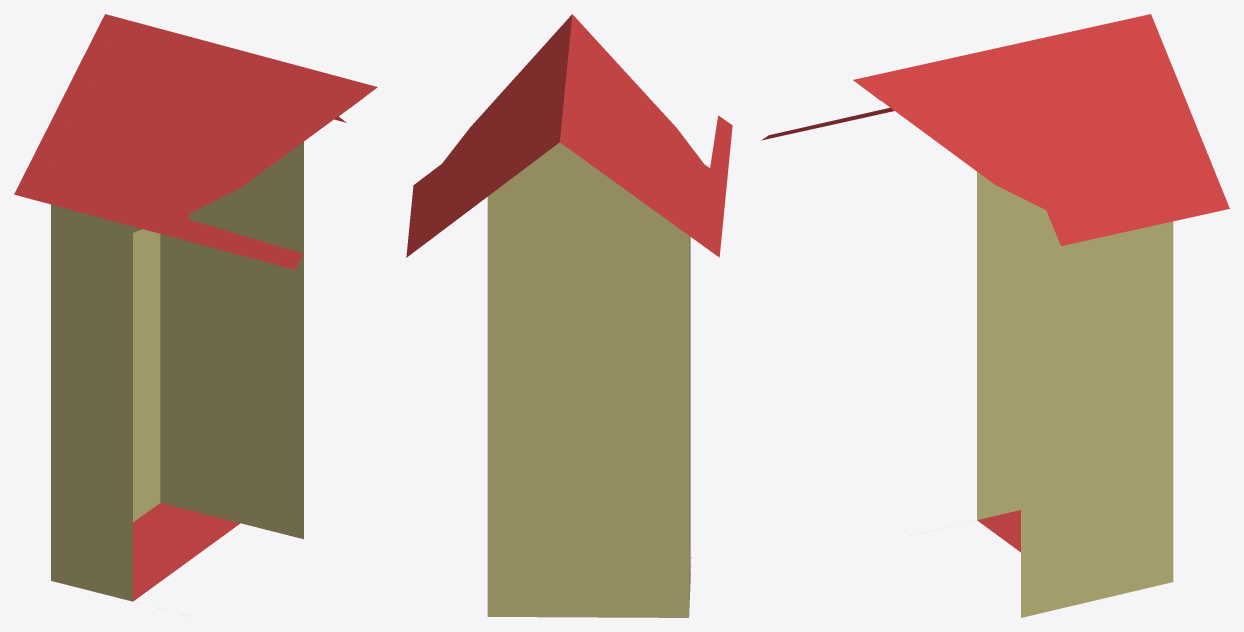
3 renders of one model, left to right at view 1: azimuth 30°, elevation 25°; view 2: azimuth 150°, elevation 25°; view 3: azimuth 270°, elevation 25°, orthographic. The views are drawn at different scales.
Size of the model in its own units: 12.72 by 15.06 by 18.94.
